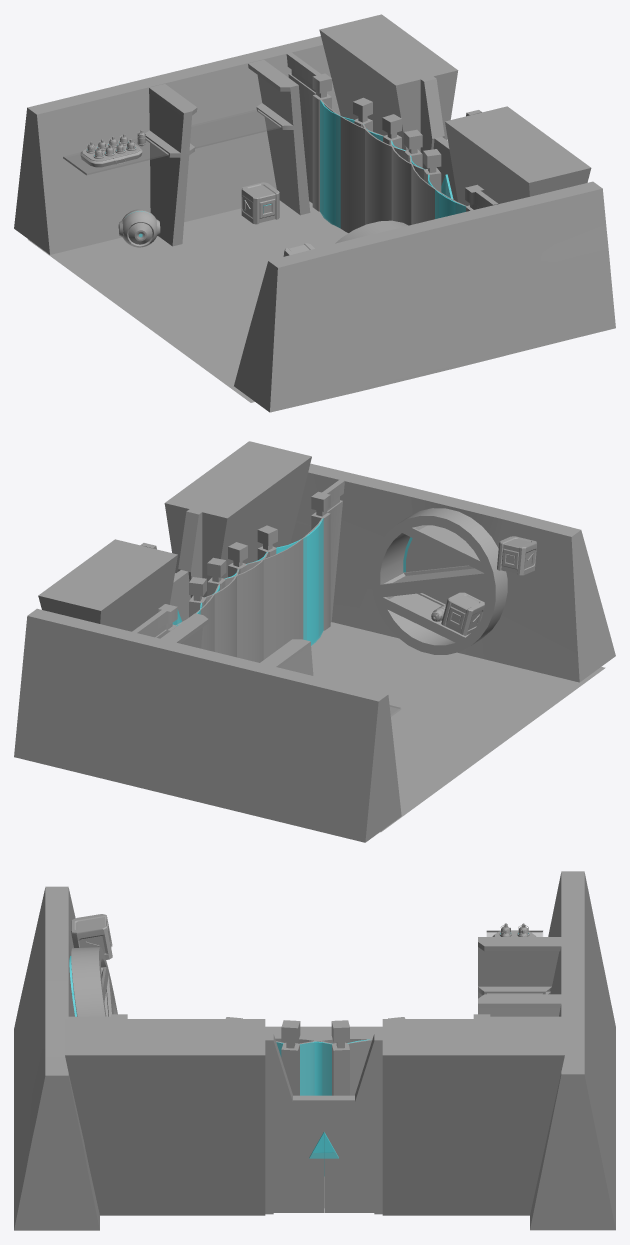
Rendered from L1_room 6 models_no texture.fbx.
3 renders of one model, top to bottom at view 1: azimuth 30°, elevation 25°; view 2: azimuth 150°, elevation 25°; view 3: azimuth 270°, elevation 25°, orthographic. The views are drawn at different scales.
Visible parts, largest first — view 1: RM6_wall_right, RM6_wall_left, L1_RM6_ground, RM_6_shelf, lab_door_room4_left_wall, lab_door_room4_right_wall, RM6_energy_wall_variaties_3_energy, RM_6_energy_wall_left, RM_6_energy_1, RM6_energy_wall_variaties_2_energy, RM6_energy_wall_variaties_4_energy, cases_comb1 (+9 smaller); view 2: RM6_wall_left, RM6_wall_right, L1_RM6_ground, lab_door_room4_right_wall, RM6_wall_right_deco1, lab_door_room4_left_wall, RM6_energy_wall_variaties_1_energy, RM6_energy_wall_variaties_4_energy, RM_6_energy_wall_right, RM_6_energy_5, RM_6_shelf, RM6_energy_wall_variaties_2_energy (+9 smaller); view 3: lab_door_room4_right_wall, lab_door_room4_left_wall, RM6_wall_left, RM6_wall_right, RM_6_shelf, lab_door_room4_right_door1, lab_door_room4_left_door1, RM6_wall_right_deco1, RM_6_energy_3, RM_6_energy_column3, RM6_wall_case_4, RM_6_energy_column5 (+4 smaller).
Boxes of the visible parts, x1=… form: RM6_wall_right: x1=234, y1=181, x2=615, y2=412; RM6_wall_left: x1=14, y1=36, x2=340, y2=254; L1_RM6_ground: x1=28, y1=200, x2=348, y2=402; RM_6_shelf: x1=63, y1=59, x2=310, y2=246; lab_door_room4_left_wall: x1=319, y1=14, x2=458, y2=169; lab_door_room4_right_wall: x1=445, y1=106, x2=591, y2=205; RM6_energy_wall_variaties_3_energy: x1=320, y1=99, x2=383, y2=232; RM_6_energy_wall_left: x1=286, y1=52, x2=331, y2=211; RM_6_energy_1: x1=320, y1=100, x2=354, y2=228; RM6_energy_wall_variaties_2_energy: x1=362, y1=124, x2=404, y2=224; RM6_energy_wall_variaties_4_energy: x1=390, y1=140, x2=424, y2=225; cases_comb1: x1=241, y1=182, x2=279, y2=224; RM6_wall_left: x1=14, y1=608, x2=401, y2=842; RM6_wall_right: x1=290, y1=463, x2=615, y2=682; L1_RM6_ground: x1=311, y1=622, x2=605, y2=832; lab_door_room4_right_wall: x1=164, y1=441, x2=311, y2=597; RM6_wall_right_deco1: x1=372, y1=508, x2=507, y2=654; lab_door_room4_left_wall: x1=38, y1=539, x2=177, y2=631; RM6_energy_wall_variaties_1_energy: x1=246, y1=518, x2=323, y2=659; RM6_energy_wall_variaties_4_energy: x1=225, y1=552, x2=268, y2=662; RM_6_energy_wall_right: x1=311, y1=479, x2=344, y2=630; RM_6_energy_5: x1=276, y1=518, x2=323, y2=645; RM_6_shelf: x1=160, y1=613, x2=401, y2=716; RM6_energy_wall_variaties_2_energy: x1=205, y1=568, x2=239, y2=657; lab_door_room4_right_wall: x1=65, y1=1019, x2=292, y2=1215; lab_door_room4_left_wall: x1=355, y1=1019, x2=564, y2=1215; RM6_wall_left: x1=530, y1=871, x2=615, y2=1230; RM6_wall_right: x1=14, y1=886, x2=99, y2=1230; RM_6_shelf: x1=478, y1=930, x2=561, y2=1016; lab_door_room4_right_door1: x1=274, y1=1095, x2=323, y2=1212; lab_door_room4_left_door1: x1=324, y1=1095, x2=373, y2=1212; RM6_wall_right_deco1: x1=70, y1=947, x2=117, y2=1016; RM_6_energy_3: x1=300, y1=1041, x2=332, y2=1176; RM_6_energy_column3: x1=331, y1=1020, x2=349, y2=1152; RM6_wall_case_4: x1=71, y1=914, x2=112, y2=959; RM_6_energy_column5: x1=281, y1=1020, x2=300, y2=1095.
Size of the model in its own units: 2807 by 1122 by 3500.
